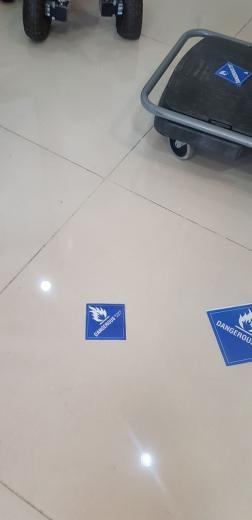Dangerous when wet: (206, 303, 252, 366), (85, 304, 126, 340), (214, 61, 252, 87)
